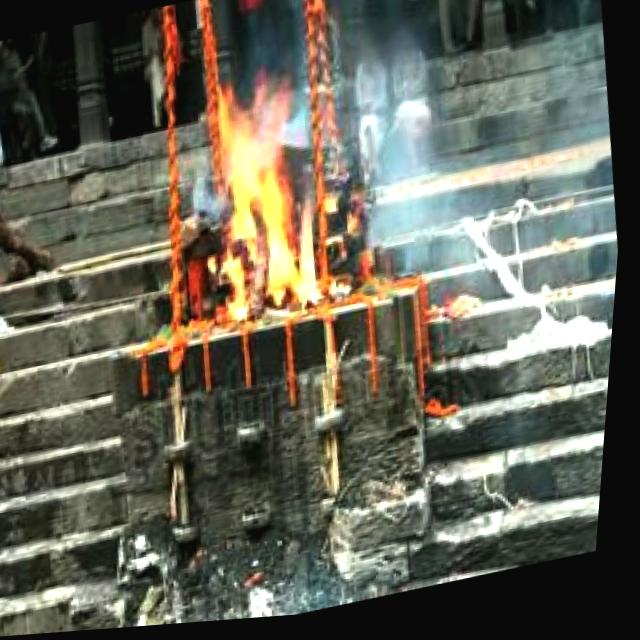helmet: (197, 78, 346, 324)
